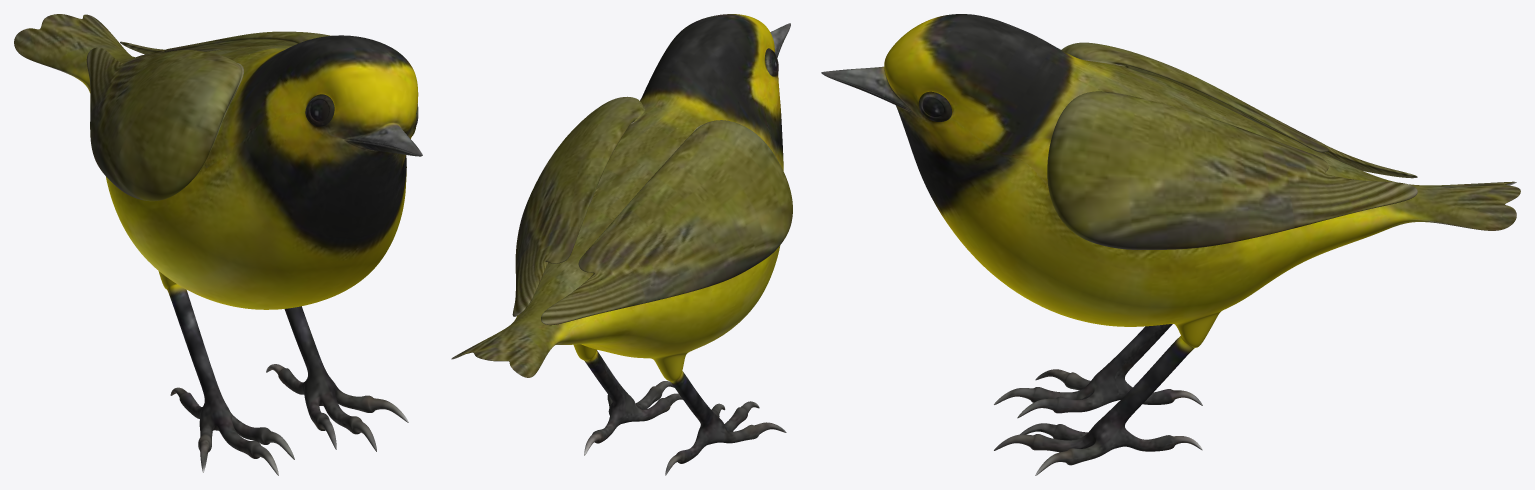
Rendered from Birb.fbx.
The picture shows the model from 3 angles, left to right: view 1: azimuth 30°, elevation 25°; view 2: azimuth 150°, elevation 25°; view 3: azimuth 270°, elevation 25°; orthographic projection. The views are drawn at different scales.
Parts seen in each view (by area): view 1: 12214_Bird_v1max_l3; view 2: 12214_Bird_v1max_l3; view 3: 12214_Bird_v1max_l3.
Boxes of the visible parts, x1,y1,x2,y2 form: 12214_Bird_v1max_l3: [14, 14, 422, 475]; 12214_Bird_v1max_l3: [451, 14, 792, 475]; 12214_Bird_v1max_l3: [821, 14, 1520, 475].
Size of the model in its own units: 611 by 917 by 1417.
